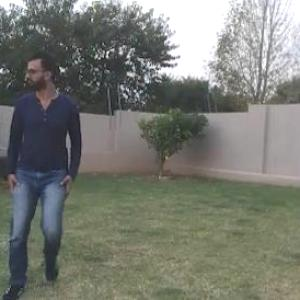follow: (0, 27, 87, 299)
